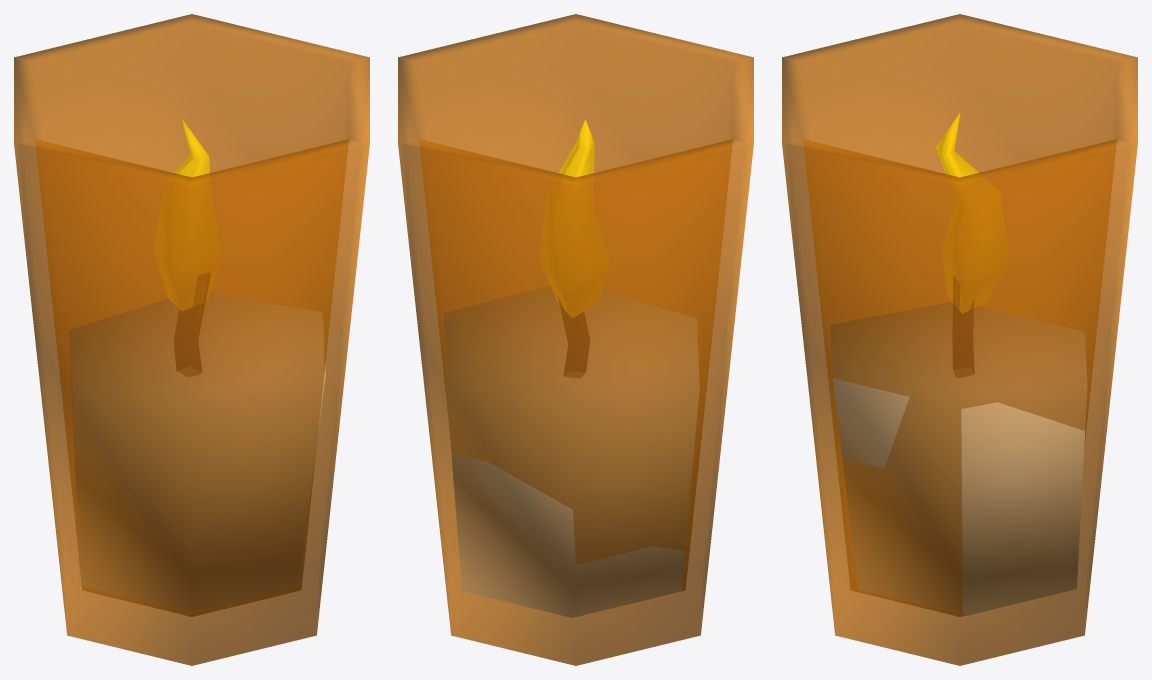
File: HWN20_Candle_19.glb
The picture shows the model from 3 angles, left to right: view 1: azimuth 30°, elevation 25°; view 2: azimuth 150°, elevation 25°; view 3: azimuth 270°, elevation 25°; orthographic projection.
Parts seen in each view (by area): view 1: HWN20_Candle_19; view 2: HWN20_Candle_19; view 3: HWN20_Candle_19.
Part boxes in pixels (x1,y1,x2,y2): HWN20_Candle_19: [14, 14, 369, 665]; HWN20_Candle_19: [398, 14, 753, 665]; HWN20_Candle_19: [782, 14, 1137, 665].
Size of what is drawn, in the model's own units: 0.1601 by 0.2168 by 0.1386.
3 materials, 3 textured.
